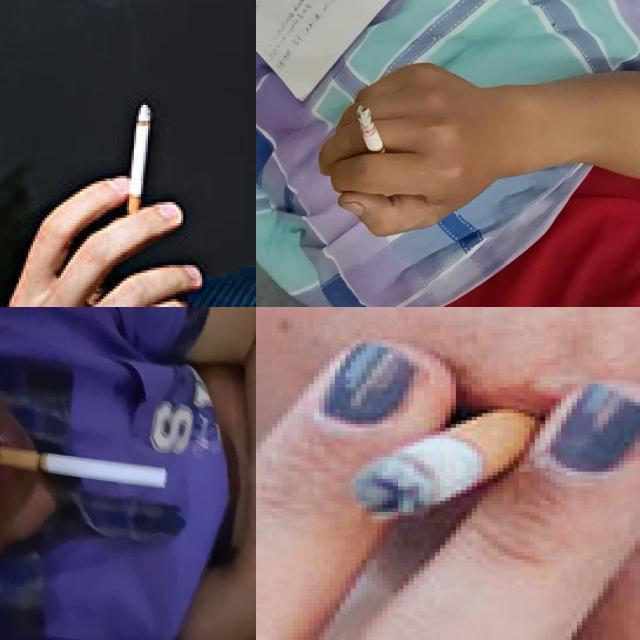smoking: (353, 407, 542, 517), (0, 447, 170, 490), (124, 97, 148, 210), (356, 105, 389, 169)
